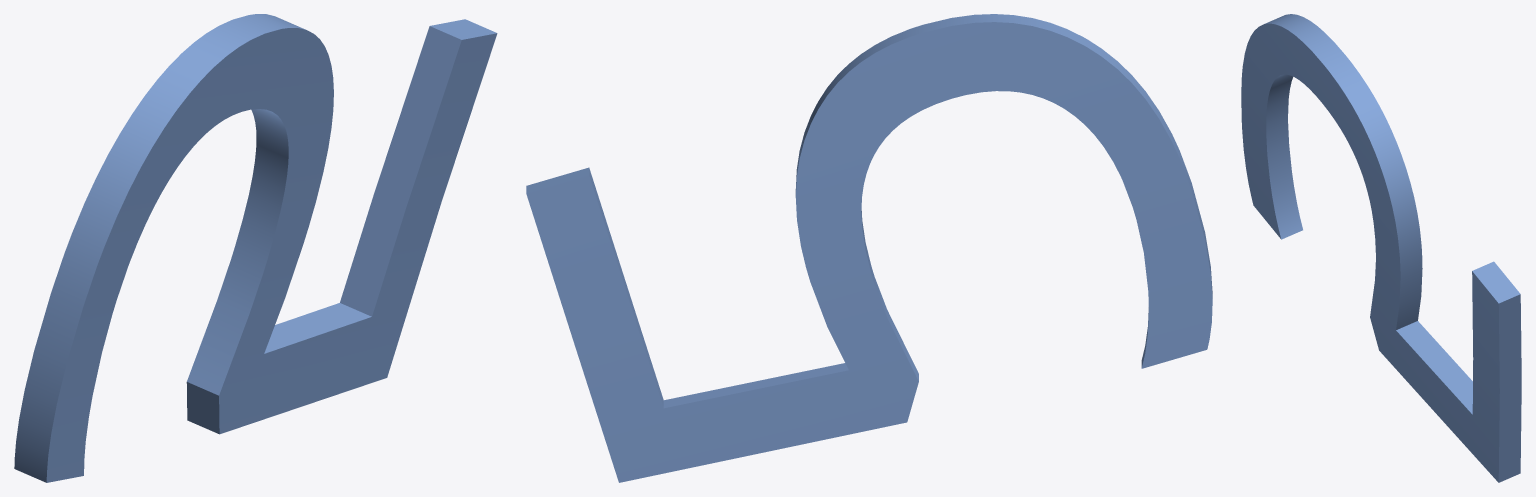
Rendered from Number_5.gltf.
The picture shows the model from 3 angles, left to right: view 1: azimuth 30°, elevation 25°; view 2: azimuth 150°, elevation 25°; view 3: azimuth 270°, elevation 25°; orthographic projection. The views are drawn at different scales.
Visible parts, largest first — view 1: Sub_9_Cell_1_1_Number_5; view 2: Sub_9_Cell_1_1_Number_5; view 3: Sub_9_Cell_1_1_Number_5.
Part boxes in pixels (box(x1,y1,x2,y2)): Sub_9_Cell_1_1_Number_5: box(14, 14, 497, 482); Sub_9_Cell_1_1_Number_5: box(526, 14, 1212, 482); Sub_9_Cell_1_1_Number_5: box(1241, 14, 1521, 482).
Size of the model in its own units: 0.0252 by 0.0192 by 0.0139.
